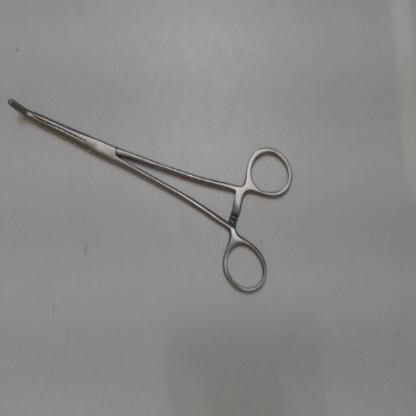Lahey Forceps: (2, 89, 296, 302)
